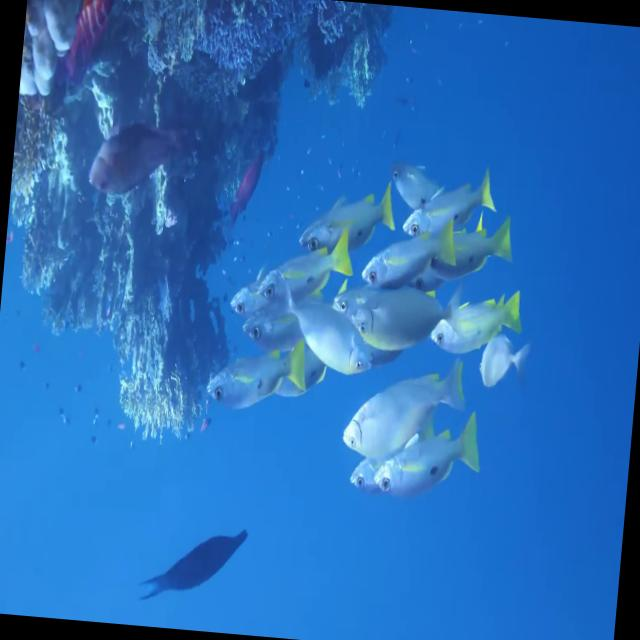fish: (338, 349, 464, 470), (372, 402, 482, 508), (345, 272, 464, 354), (296, 172, 400, 264), (276, 284, 378, 376), (204, 327, 309, 414), (360, 208, 457, 292), (402, 165, 506, 243), (260, 225, 352, 312), (426, 200, 520, 282), (428, 282, 516, 361)
